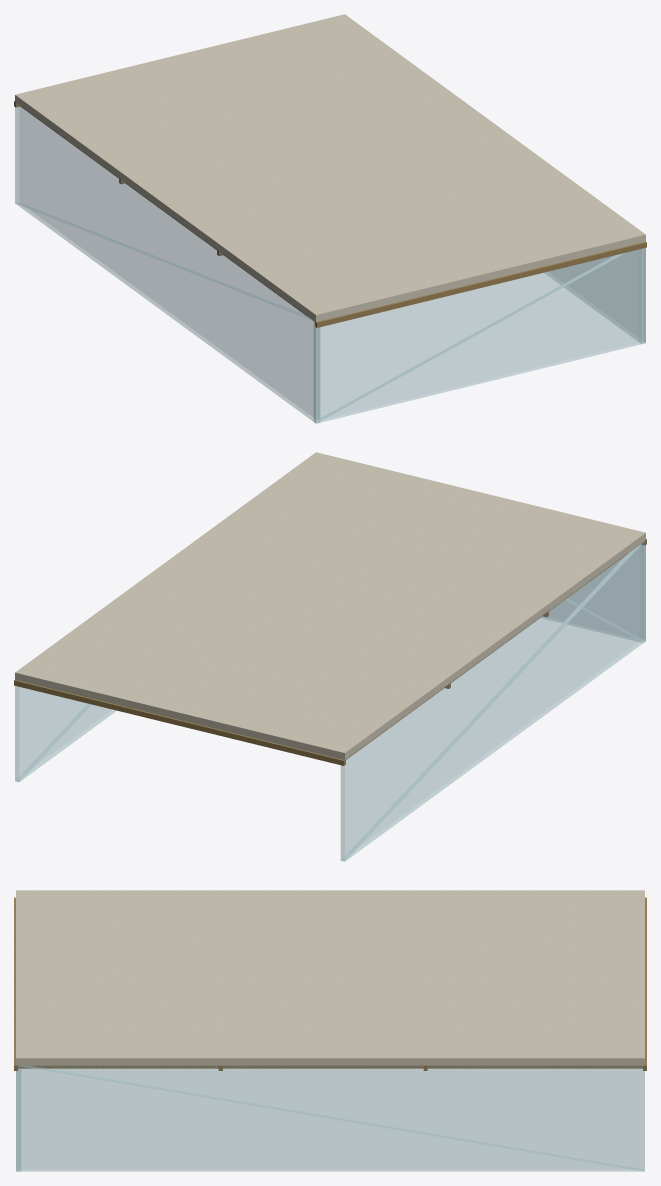
The model's file is G7_Completion_G7C3_Aft_Closure.glb.
3 renders of one model, top to bottom at view 1: azimuth 30°, elevation 25°; view 2: azimuth 150°, elevation 25°; view 3: azimuth 270°, elevation 25°, orthographic. The views are drawn at different scales.
Parts seen in each view (by area): view 1: G7C3_Aft_Closure_G7C3_shell_solid_roof, G7C3_Aft_Closure_G7C3_glass_solid_skin, G7C3_Aft_Closure_G7C3_metal_solid_frame; view 2: G7C3_Aft_Closure_G7C3_shell_solid_roof, G7C3_Aft_Closure_G7C3_glass_solid_skin, G7C3_Aft_Closure_G7C3_metal_solid_frame; view 3: G7C3_Aft_Closure_G7C3_shell_solid_roof, G7C3_Aft_Closure_G7C3_glass_solid_skin, G7C3_Aft_Closure_G7C3_metal_solid_frame.
Boxes of the visible parts, x1,y1,x2,y2 form: G7C3_Aft_Closure_G7C3_shell_solid_roof: (15,14,645,321); G7C3_Aft_Closure_G7C3_glass_solid_skin: (15,102,645,423); G7C3_Aft_Closure_G7C3_metal_solid_frame: (14,101,646,327); G7C3_Aft_Closure_G7C3_shell_solid_roof: (15,452,645,759); G7C3_Aft_Closure_G7C3_glass_solid_skin: (15,541,645,861); G7C3_Aft_Closure_G7C3_metal_solid_frame: (14,539,646,765); G7C3_Aft_Closure_G7C3_shell_solid_roof: (16,890,644,1065); G7C3_Aft_Closure_G7C3_glass_solid_skin: (16,1065,644,1171); G7C3_Aft_Closure_G7C3_metal_solid_frame: (14,897,646,1070).
Bounding box in the file's own units: 13.6 × 4.28 × 21.64.
Materials: 4 (2 with a texture image).
